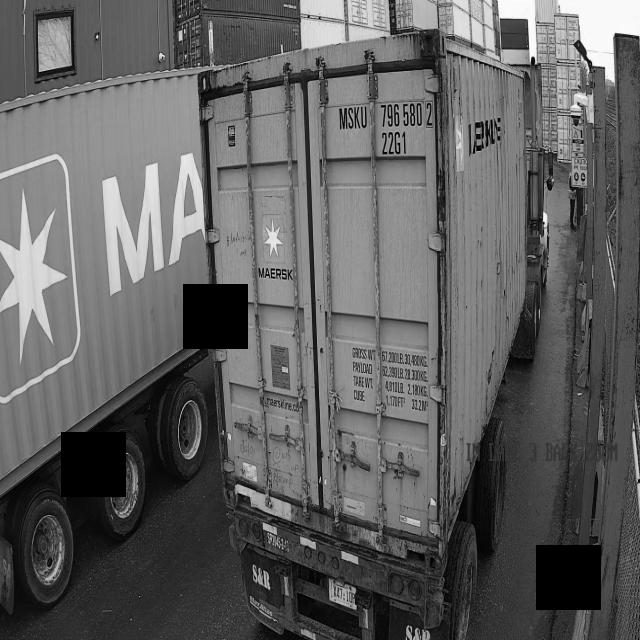container_company_logo: (257, 214, 291, 288)
container_number: (338, 103, 435, 159)
license_plate: (325, 580, 360, 610)
other_container_info: (349, 340, 429, 416)
truck_with_container: (200, 30, 554, 640), (0, 70, 211, 610)
